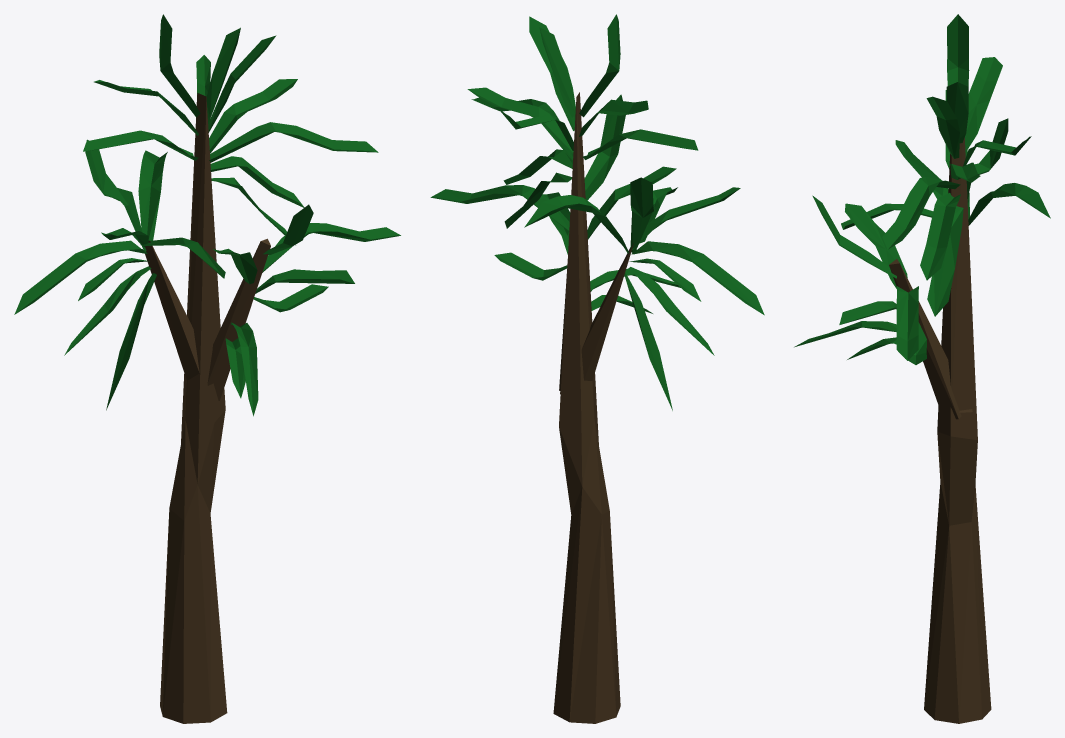
File: AloeTree.fbx
3 views of the same model, side by side, from view 1: azimuth 30°, elevation 25°; view 2: azimuth 150°, elevation 25°; view 3: azimuth 270°, elevation 25° (orthographic). The views are drawn at different scales.
Visible parts, largest first — view 1: AloeTree; view 2: AloeTree; view 3: AloeTree.
Part boxes in pixels (x1,y1,x2,y2): AloeTree: [14, 14, 400, 723]; AloeTree: [430, 14, 764, 723]; AloeTree: [794, 14, 1050, 723].
Bounding box in the file's own units: 94.31 × 175 × 60.19.
